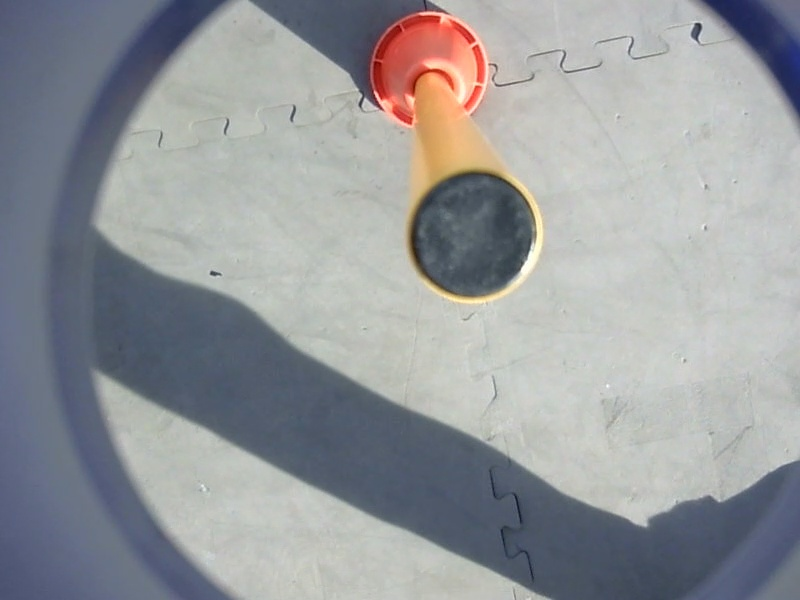tip: (401, 163, 549, 312)
